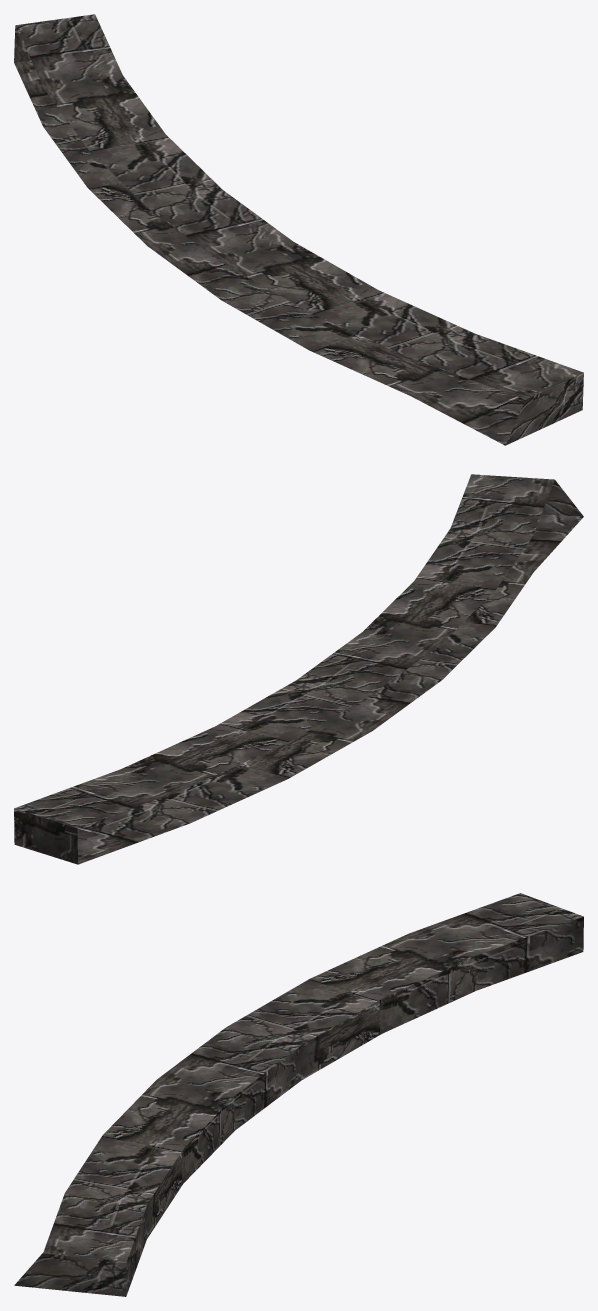
File: CH09_SMAUG_PLAYSURFACE_LAIR75.fbx
3 views of the same model, one above another, from view 1: azimuth 30°, elevation 25°; view 2: azimuth 150°, elevation 25°; view 3: azimuth 330°, elevation 25° (orthographic). The views are drawn at different scales.
Visible parts, largest first — view 1: CH09_SMAUG_PLAYSURFACE_LAIR75; view 2: CH09_SMAUG_PLAYSURFACE_LAIR75; view 3: CH09_SMAUG_PLAYSURFACE_LAIR75.
Boxes of the visible parts, x1=… form: CH09_SMAUG_PLAYSURFACE_LAIR75: x1=14, y1=14, x2=583, y2=445; CH09_SMAUG_PLAYSURFACE_LAIR75: x1=14, y1=474, x2=583, y2=864; CH09_SMAUG_PLAYSURFACE_LAIR75: x1=14, y1=893, x2=583, y2=1296.
Size of the model in its own units: 25596 by 6640 by 135678.
Materials: 1 (1 with a texture image).
